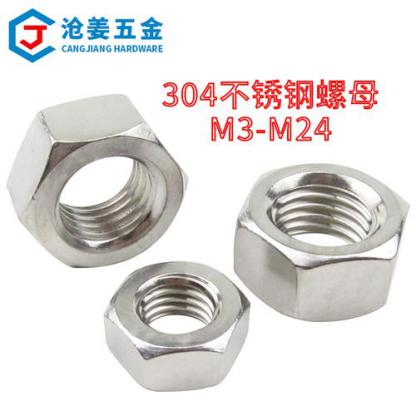FOD: (5, 94, 191, 269), (231, 161, 411, 322), (99, 258, 255, 391)
